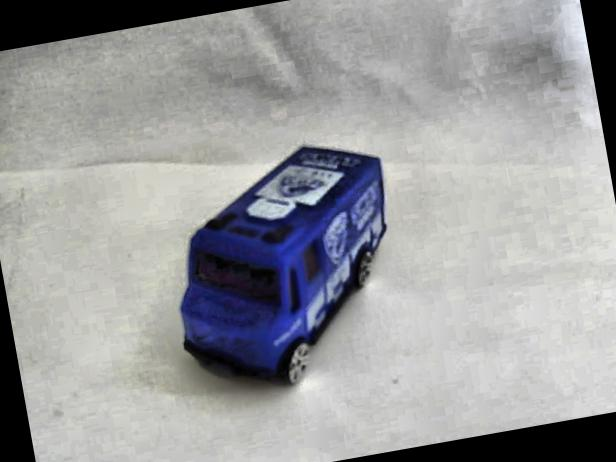police car: (153, 123, 417, 401)
